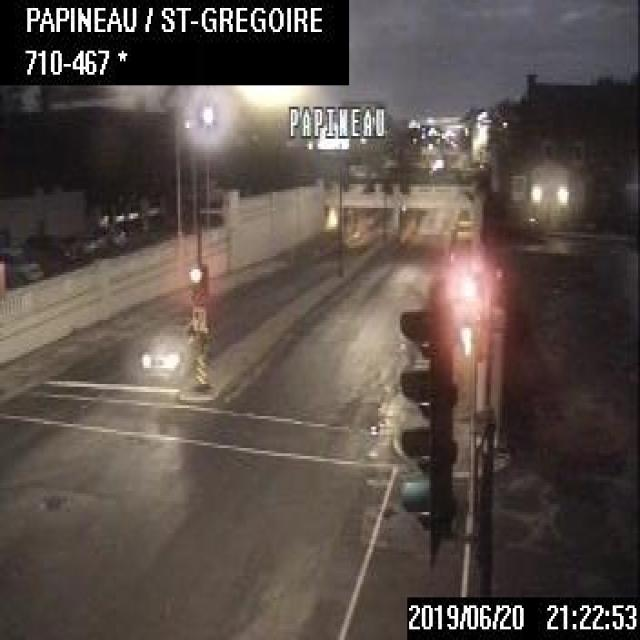vehicle: (136, 320, 194, 376), (0, 245, 42, 280)
